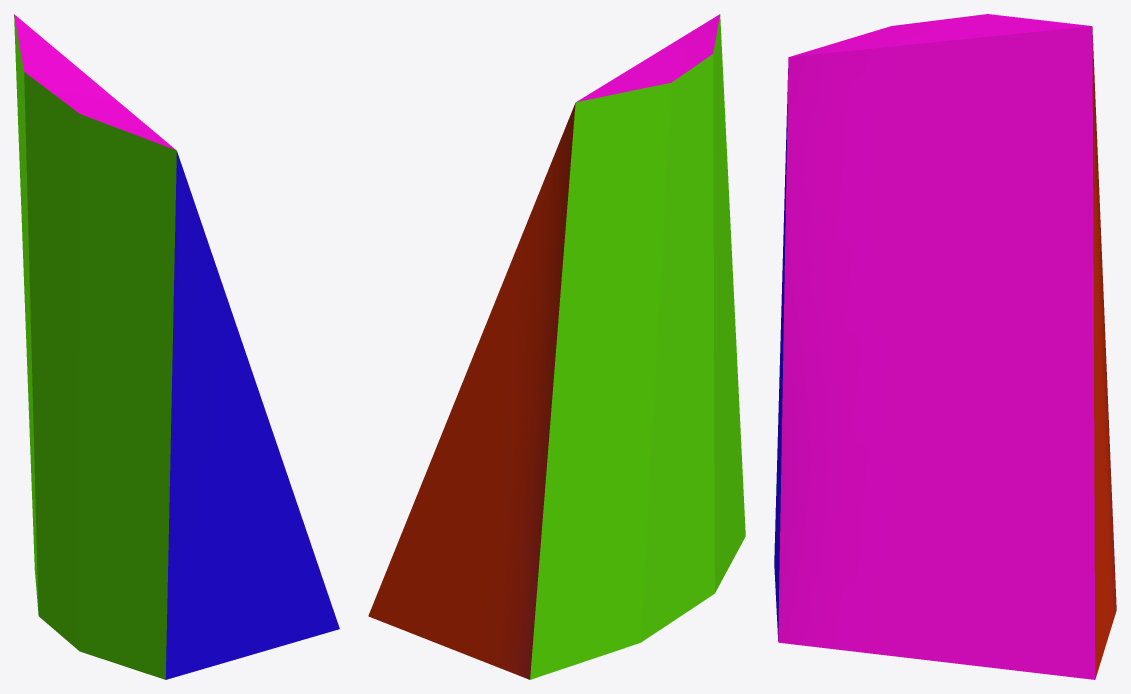
File: Statue2-1.fbx
The picture shows the model from 3 angles, left to right: view 1: azimuth 30°, elevation 25°; view 2: azimuth 150°, elevation 25°; view 3: azimuth 270°, elevation 25°; orthographic projection.
Visible parts, largest first — view 1: Cube.004; view 2: Cube.004; view 3: Cube.004.
Part boxes in pixels (bbox=[...]): Cube.004: bbox=[14, 14, 339, 679]; Cube.004: bbox=[368, 14, 745, 679]; Cube.004: bbox=[774, 14, 1116, 679].
Bounding box in the file's own units: 63.13 × 140 × 76.35.
